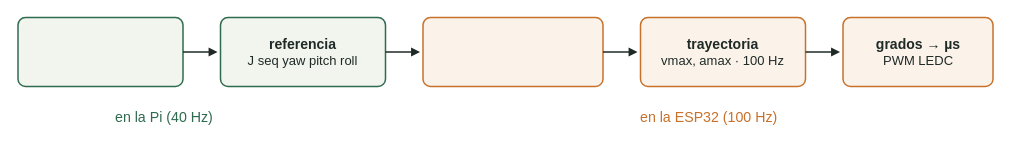
Image size: 1011x145. Some labels were removed from this diagram. The centre of each missing label's shape, as x and y in pixels:
"comportamiento dueño del cuello" belongs at [100,51].
"recorte a límites ±70 · −20/+30 · ±20" belongs at [512,51].
